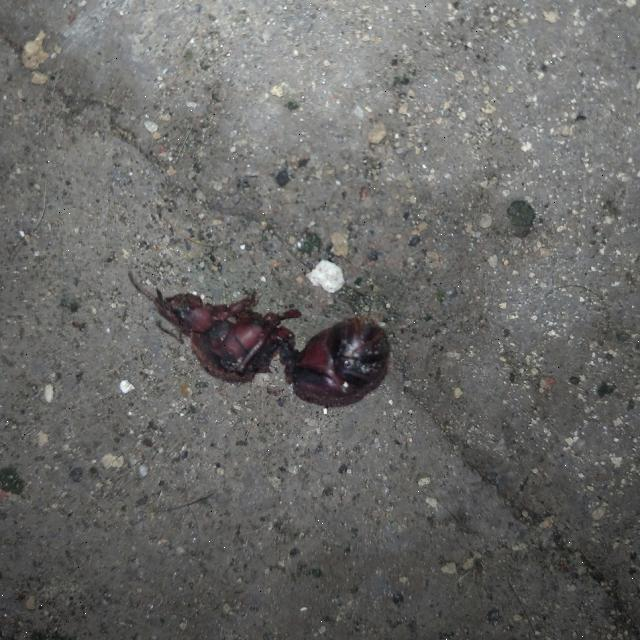Dead-Female-Dealate: (126, 268, 392, 408)
